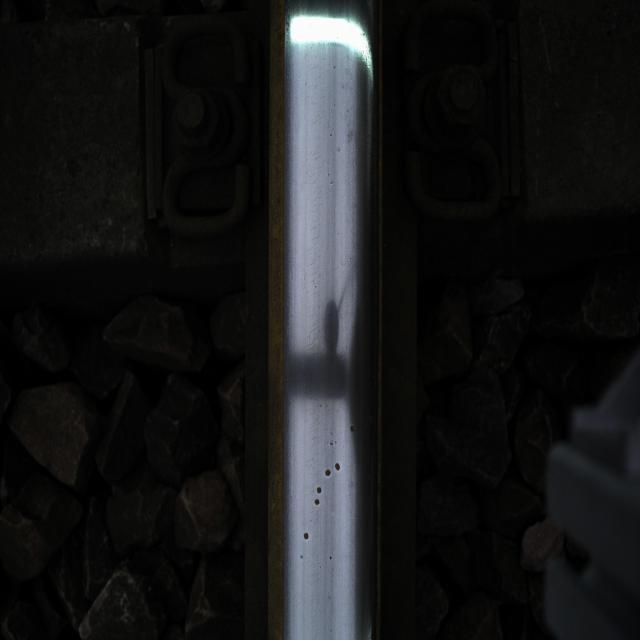crack: (291, 296, 345, 592)
